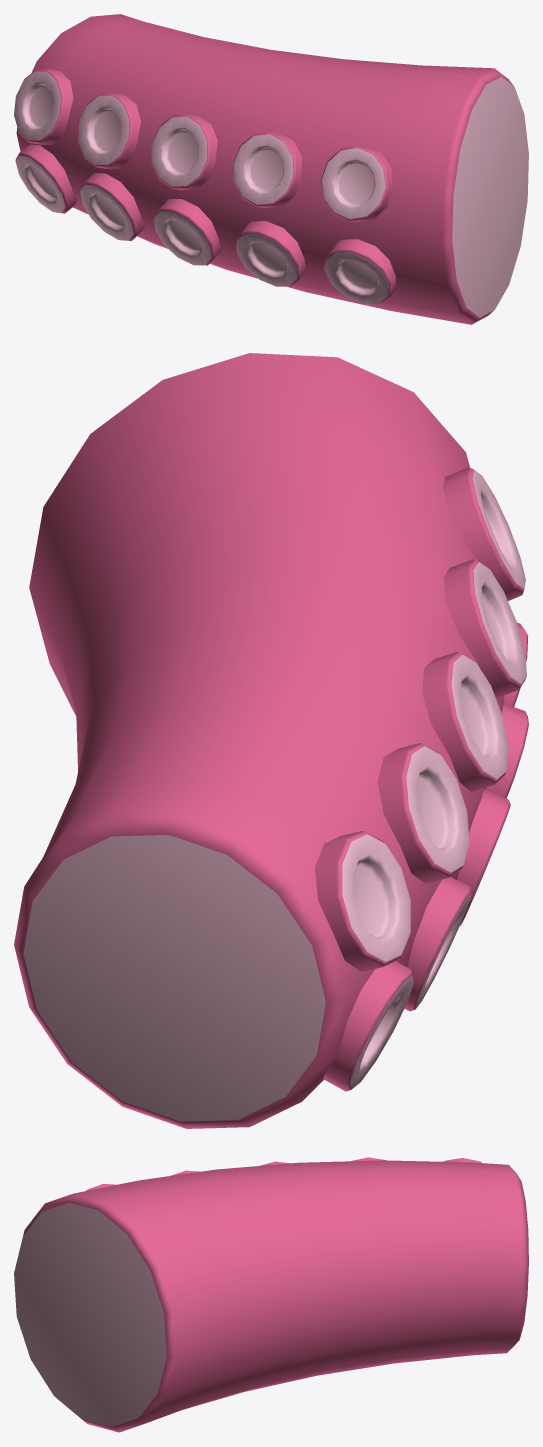
Rendered from Octopus_Tentacles_1_Piece_1.fbx.
3 renders of one model, top to bottom at view 1: azimuth 30°, elevation 25°; view 2: azimuth 150°, elevation 25°; view 3: azimuth 270°, elevation 25°, orthographic. The views are drawn at different scales.
Visible parts, largest first — view 1: Octopus_Tentacles_1_Piece_1; view 2: Octopus_Tentacles_1_Piece_1; view 3: Octopus_Tentacles_1_Piece_1.
Boxes of the visible parts, x1,y1,x2,y2 form: Octopus_Tentacles_1_Piece_1: (14,14,528,324); Octopus_Tentacles_1_Piece_1: (14,353,528,1128); Octopus_Tentacles_1_Piece_1: (14,1157,528,1432).
Bounding box in the file's own units: 19.36 × 12.31 × 25.78.
